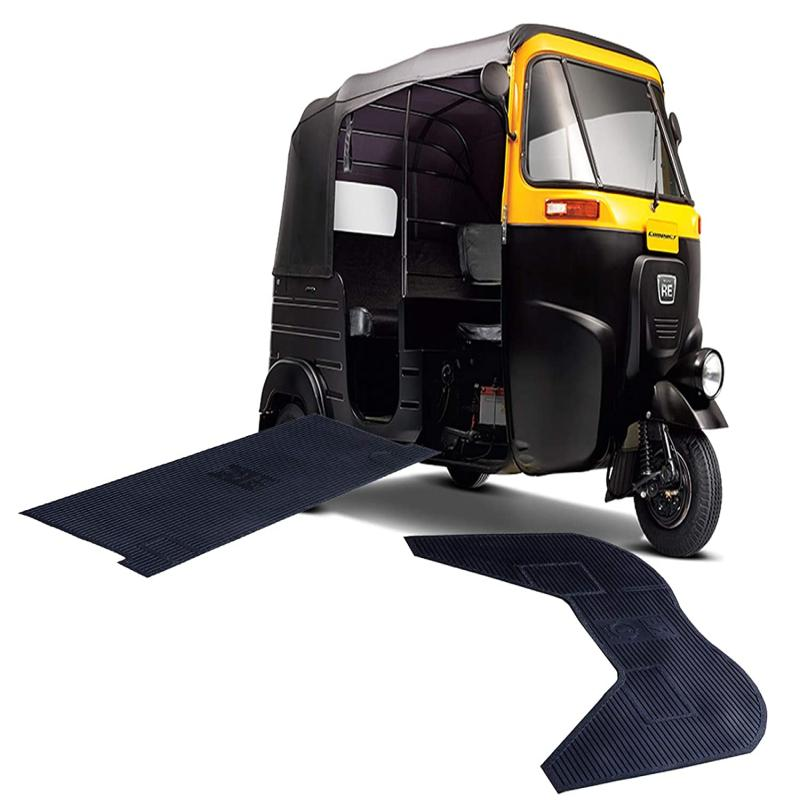bike: (275, 39, 718, 519)
